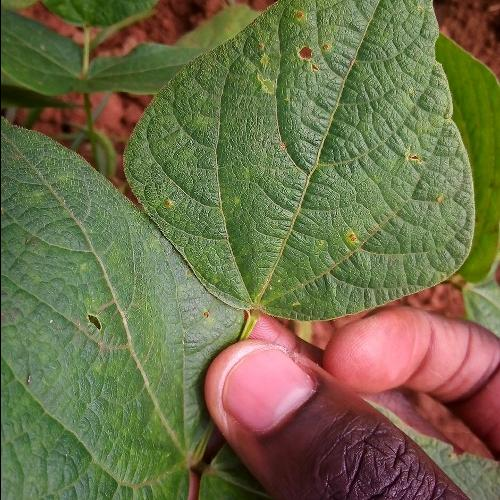hawar: (236, 20, 368, 116), (304, 181, 398, 273), (43, 279, 139, 369)
